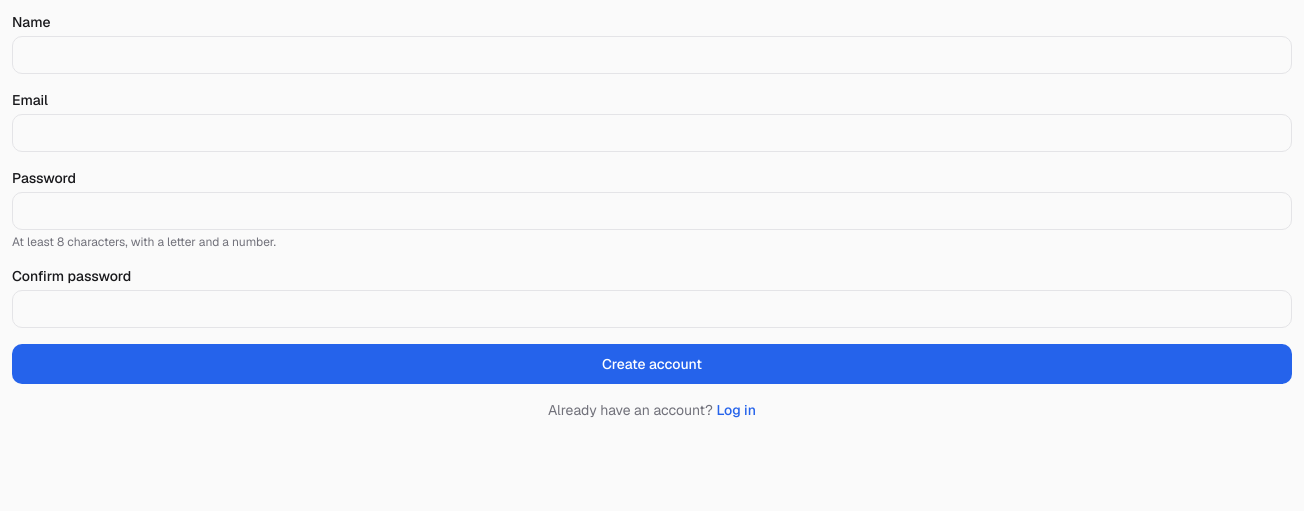
Test: RegisterForm › shows accessible errors for empty fields and does not submit
Click the button "Create account".
click(652, 364)  # box x1=12 y1=344 x2=1292 y2=384
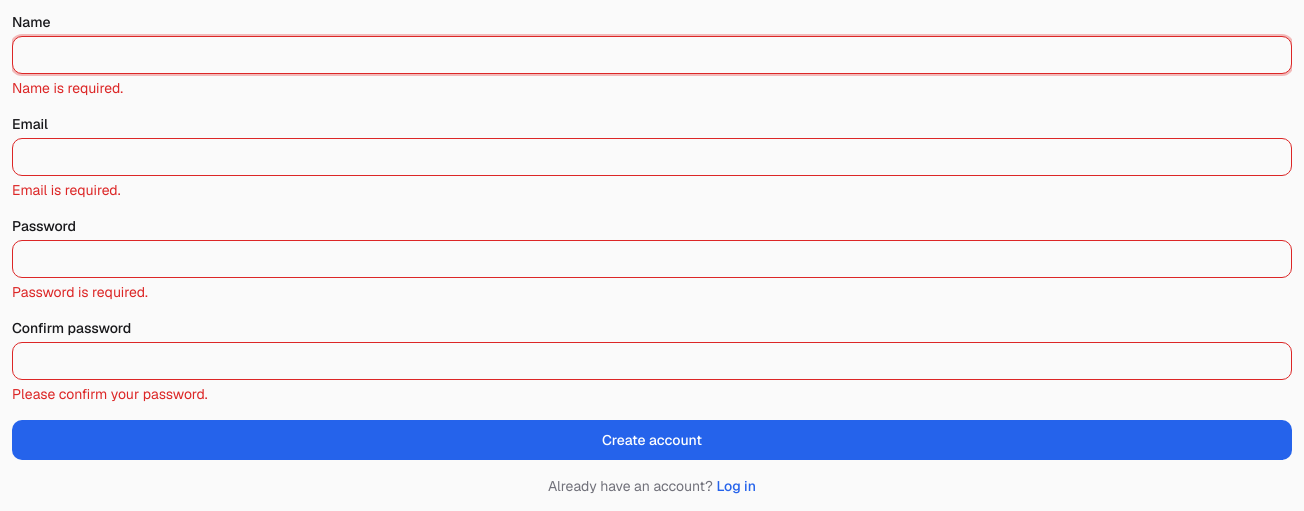
Now the text "Name is required." is shown, box x1=12 y1=79 x2=123 y2=97
Now the text "Email is required." is shown, box x1=12 y1=181 x2=120 y2=199
Now the text "Password is required." is shown, box x1=12 y1=283 x2=148 y2=301
